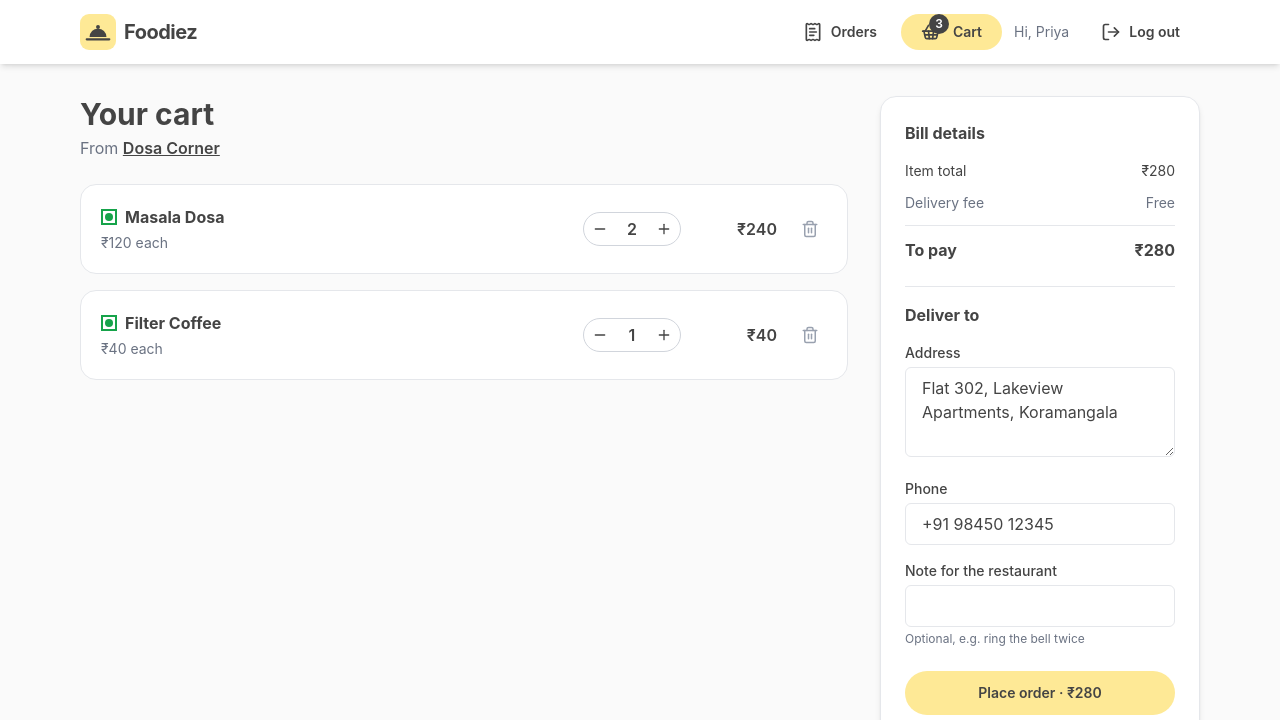
Scenario: cart page › retries a failed checkout with the same Idempotency-Key
Click the button "Place order · ₹280" at (1040, 693), box [905,671,1175,715]
(page scrolled)
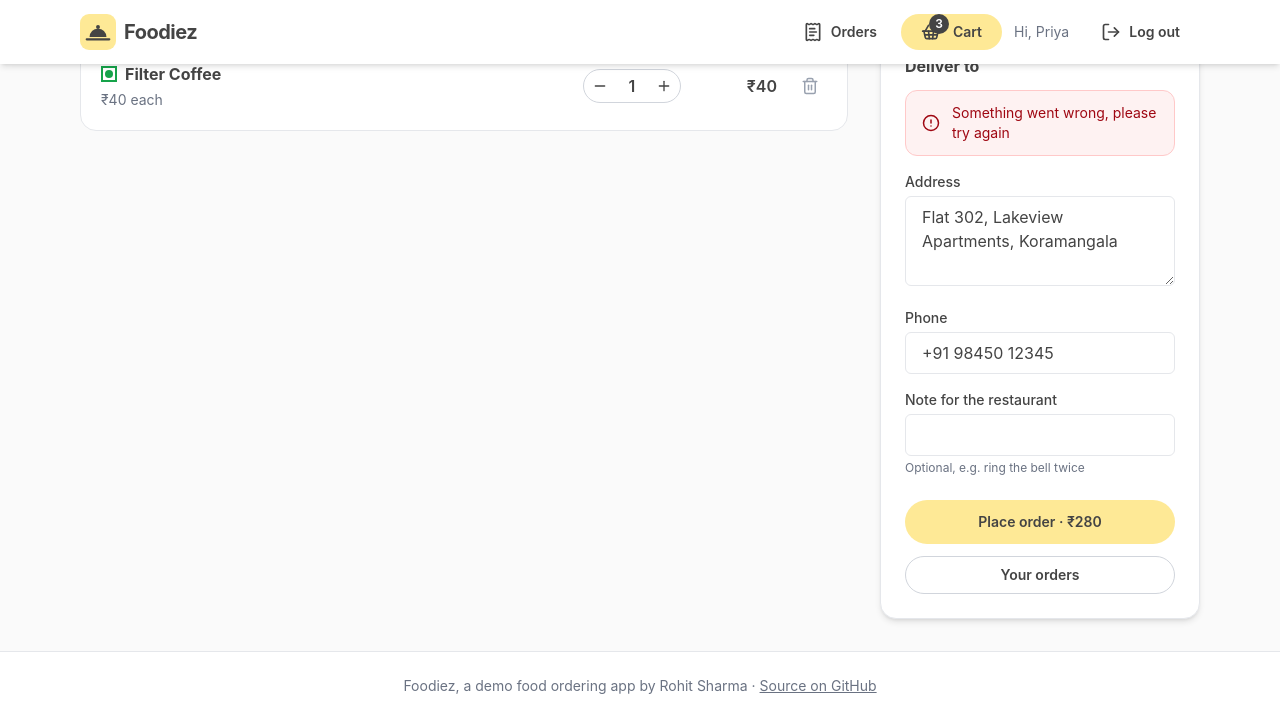
Result: the message shows "Something went wrong" at [952,104,1156,141]
Click the button "Place order · ₹280" at (1040, 522), box [905,500,1175,544]
(page scrolled)
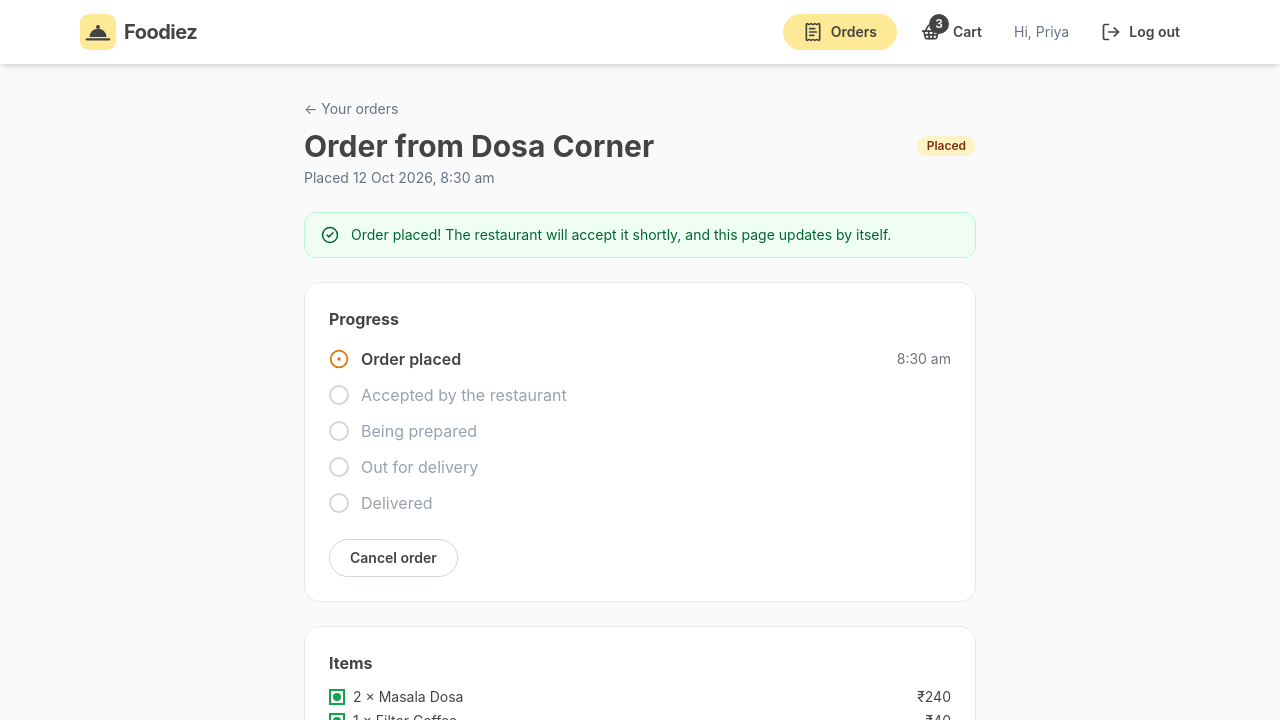
Result: the text "Order placed!" is shown at [351,226,891,243]
